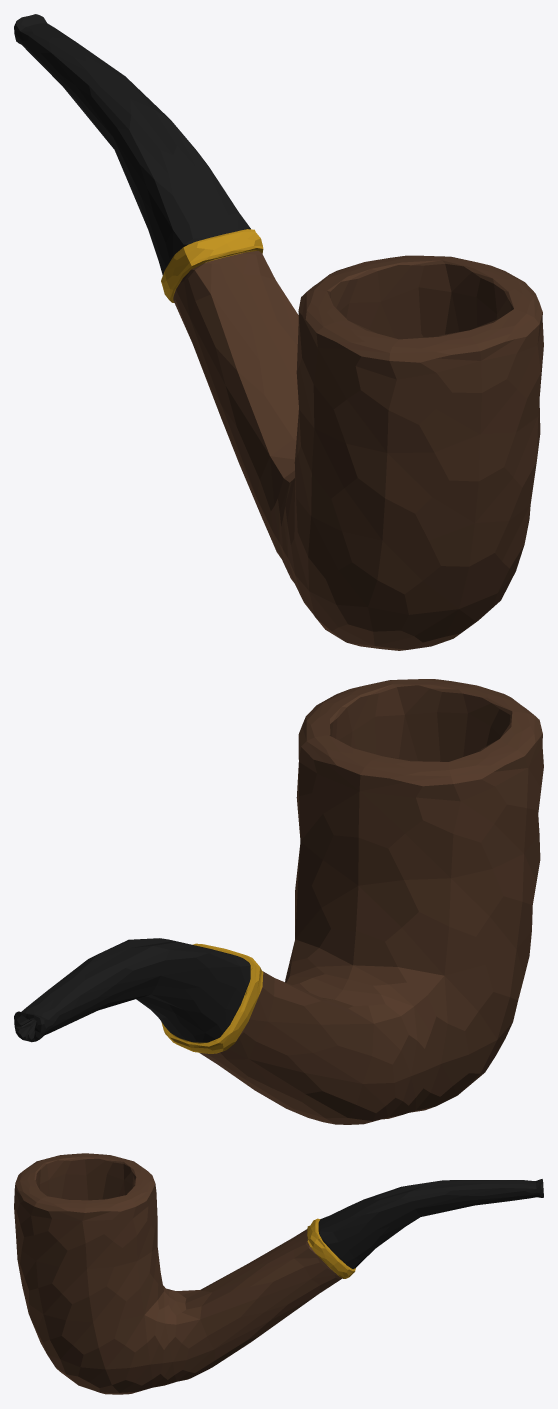
Rendered from pipe.gltf.
The picture shows the model from 3 angles, top to bottom: view 1: azimuth 30°, elevation 25°; view 2: azimuth 150°, elevation 25°; view 3: azimuth 270°, elevation 25°; orthographic projection. The views are drawn at different scales.
Visible parts, largest first — view 1: Cube; view 2: Cube; view 3: Cube.
Part boxes in pixels (<box>): Cube: <box>14,14,543,650</box>; Cube: <box>14,679,543,1124</box>; Cube: <box>14,1153,543,1394</box>.
Bounding box in the file's own units: 1.14 × 1.83 × 4.22.
